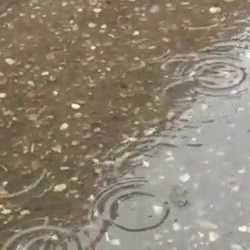drop: (95, 183, 169, 232), (166, 77, 229, 128), (1, 219, 91, 250), (187, 57, 249, 97), (1, 170, 50, 207), (179, 5, 223, 29), (162, 58, 194, 83), (170, 189, 189, 209), (23, 105, 40, 119)
